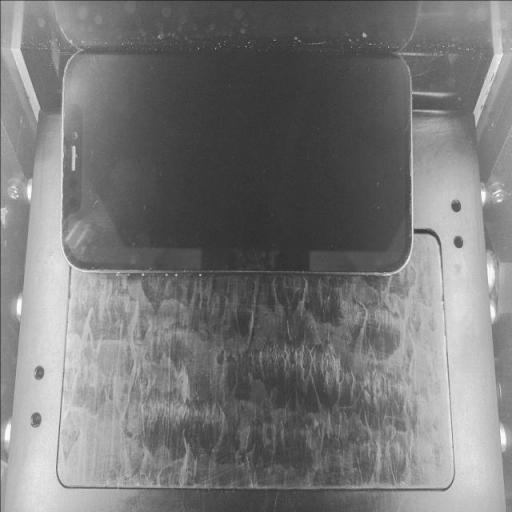phone: (55, 40, 419, 276)
